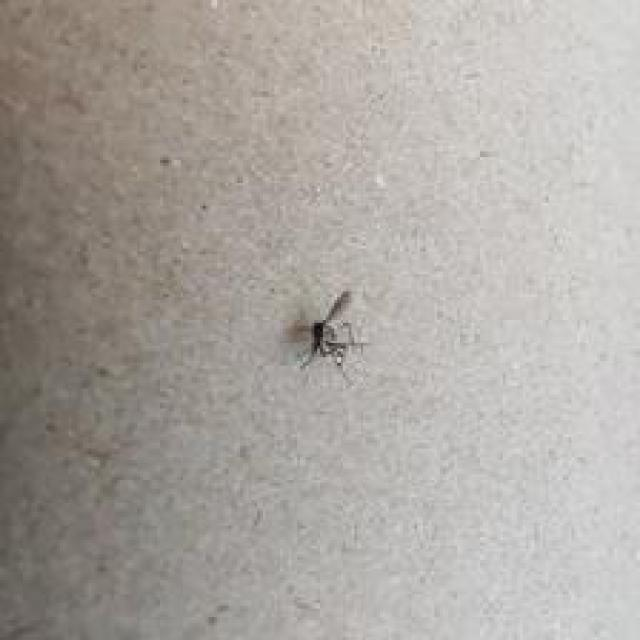Aedes albopictus: (292, 288, 368, 383)
